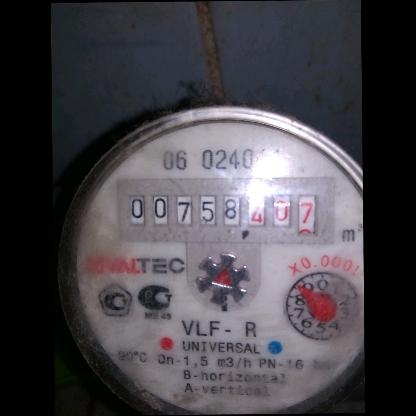digital_screen: (113, 175, 244, 243)
